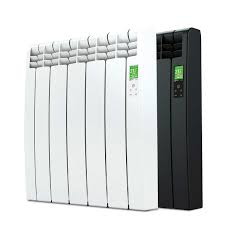Radiator: (24, 25, 206, 213)
